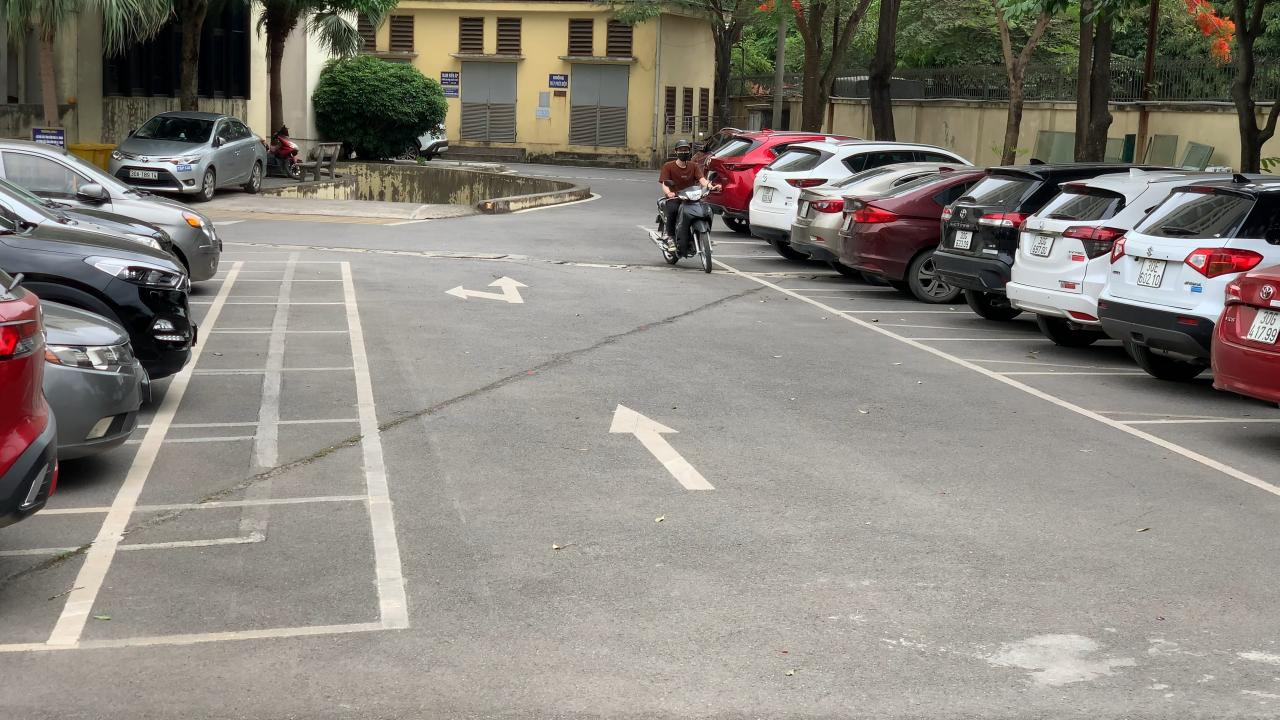helmet: (673, 140, 691, 148)
motorcyclist: (650, 138, 723, 272)
